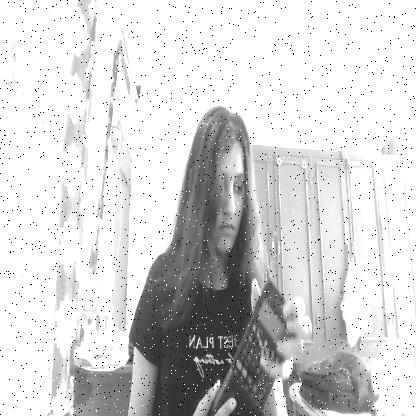Distracted: (192, 108, 254, 266)
